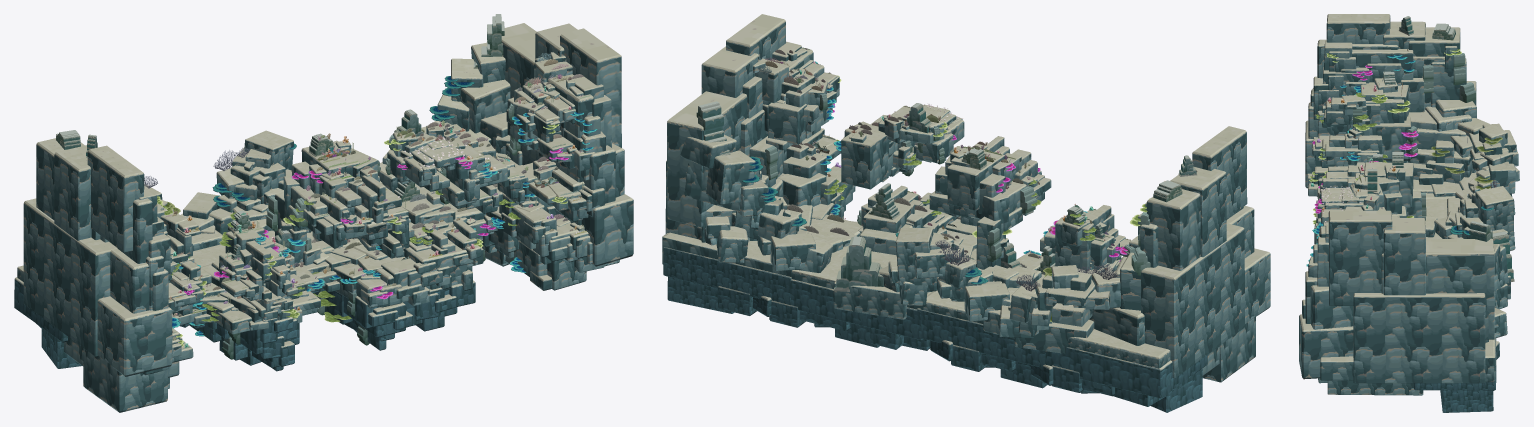
The picture shows the model from 3 angles, left to right: view 1: azimuth 30°, elevation 25°; view 2: azimuth 150°, elevation 25°; view 3: azimuth 270°, elevation 25°; orthographic projection. The views are drawn at different scales.
Bounding box in the file's own units: 148 × 65.94 × 64.03.
Materials: 26 (26 with a texture image).
